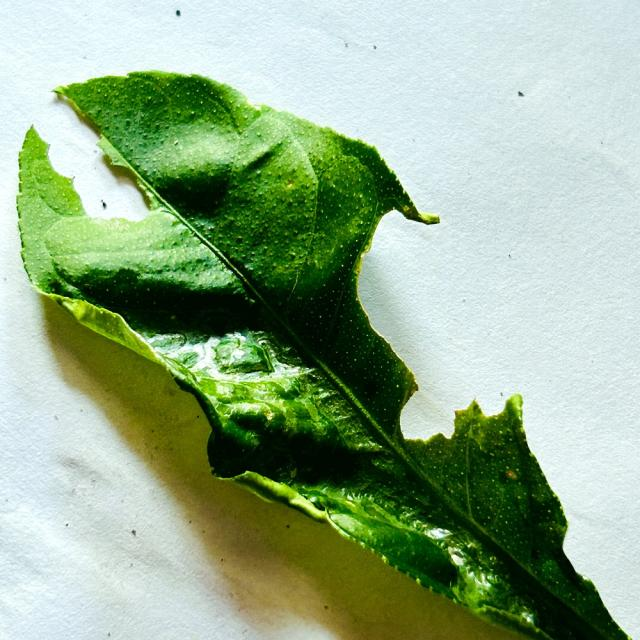Deficiency Leaf: (358, 212, 508, 439), (33, 92, 156, 221)
Lemon: (18, 72, 626, 639)
